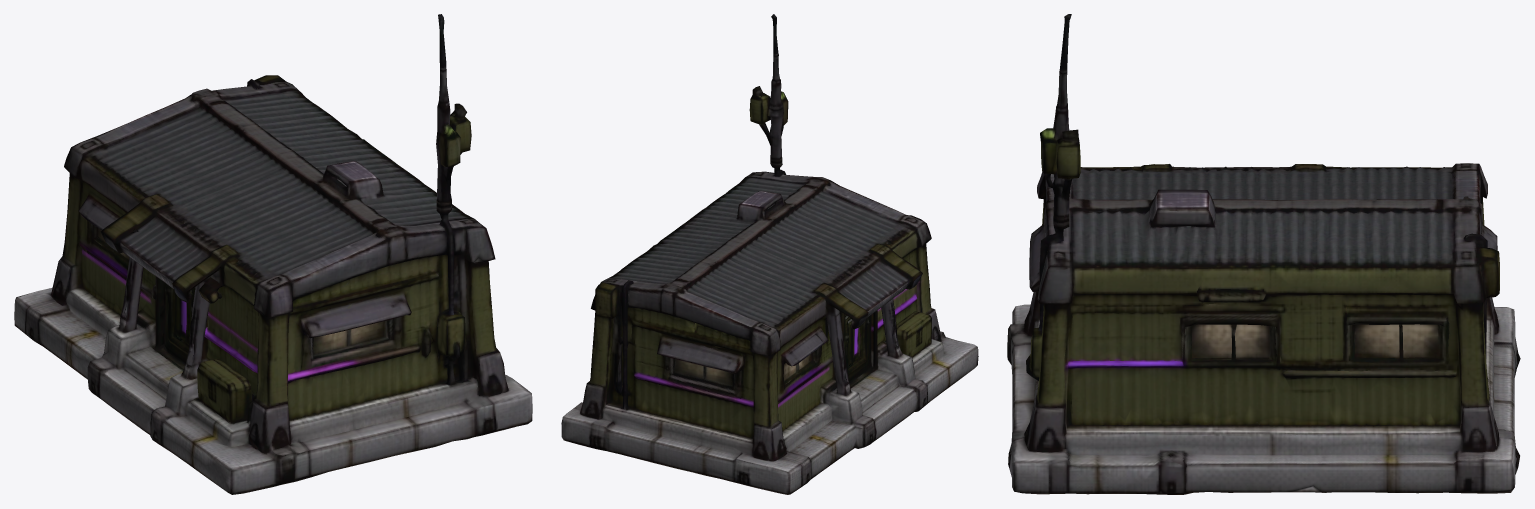
3 views of the same model, side by side, from view 1: azimuth 30°, elevation 25°; view 2: azimuth 150°, elevation 25°; view 3: azimuth 270°, elevation 25° (orthographic). The views are drawn at different scales.
Visible parts, largest first — view 1: world; view 2: world; view 3: world.
Part boxes in pixels (box(x1,y1,x2,y2)): world: box(14, 14, 532, 494); world: box(561, 14, 978, 494); world: box(1007, 14, 1520, 494).
Size of the model in its own units: 0.7627 by 0.9598 by 1.
1 material, 1 textured.
